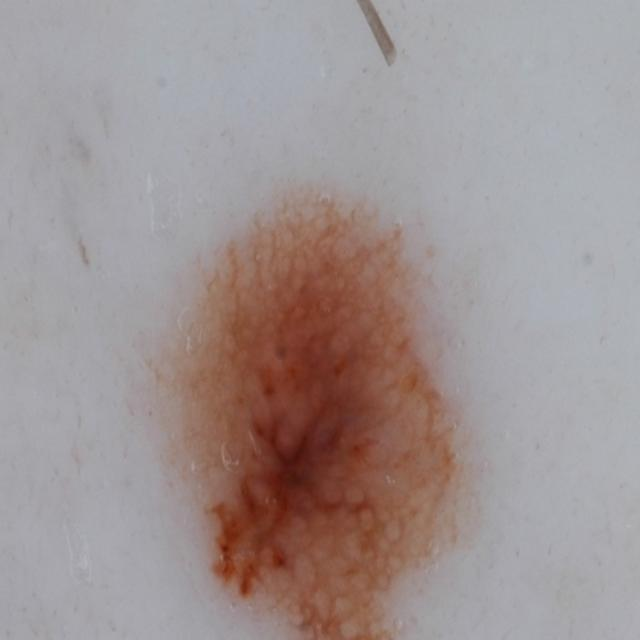Melanoma: (144, 191, 523, 640)
